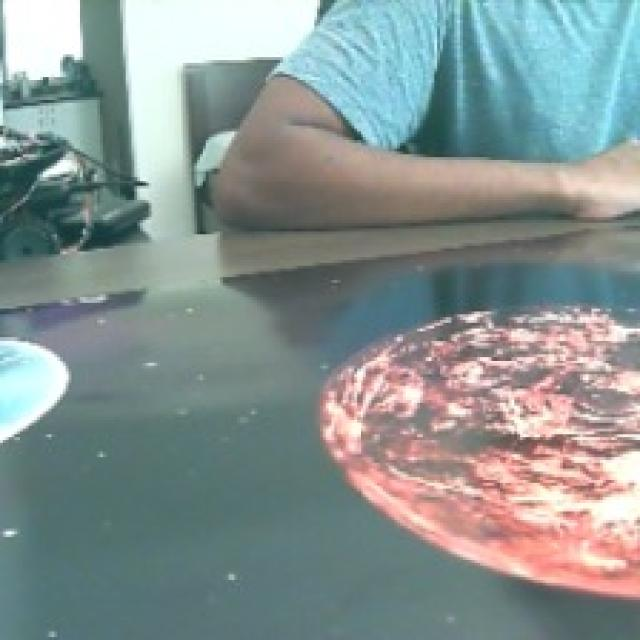Earth: (0, 337, 71, 450)
Sun: (315, 302, 640, 606)
